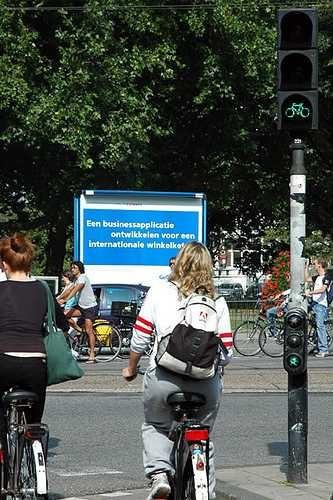green: (275, 9, 323, 135), (277, 88, 322, 133)
